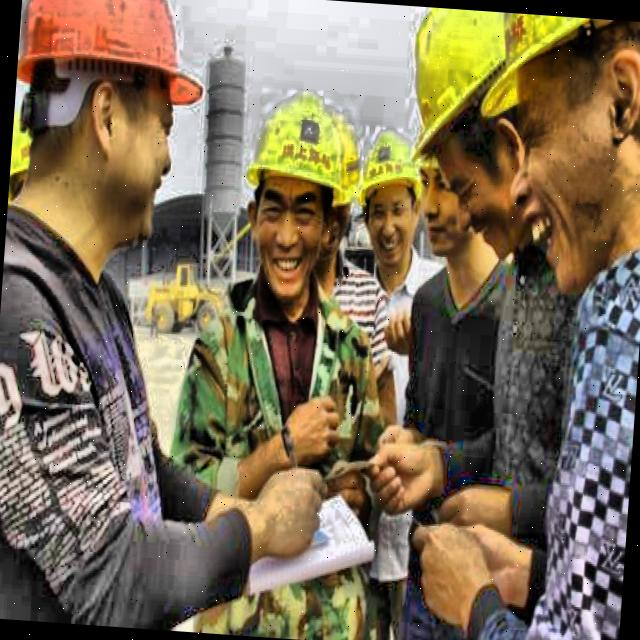helmet: (471, 14, 640, 302), (7, 0, 207, 240), (396, 8, 556, 248), (239, 87, 345, 298), (404, 120, 486, 262), (358, 124, 428, 270), (309, 107, 367, 262)
